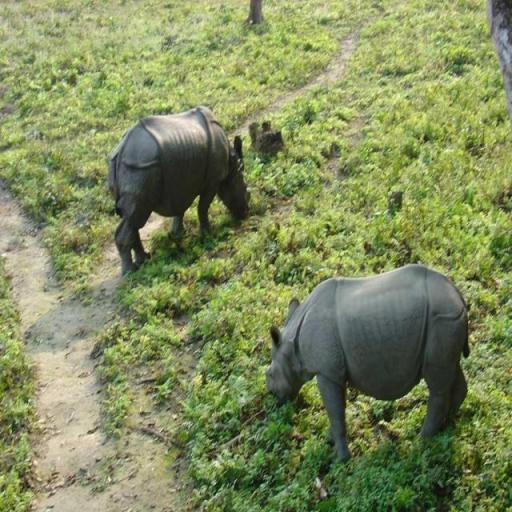Rhino: (264, 262, 470, 464), (106, 104, 250, 276)
